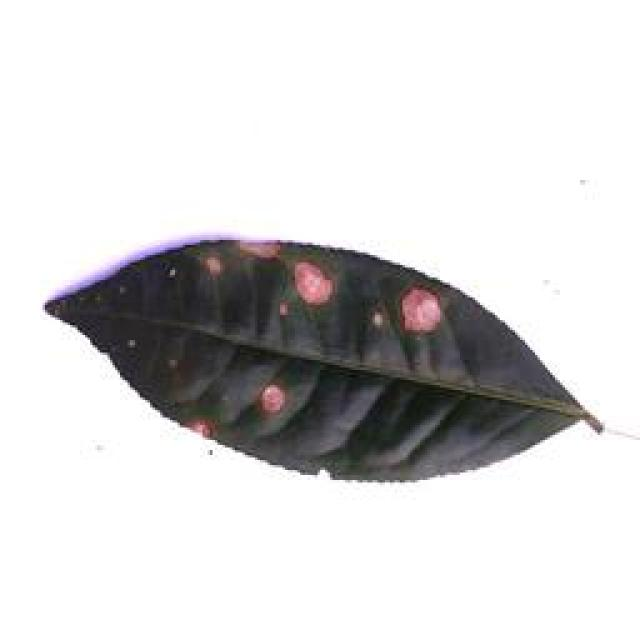Gray Blight: (41, 234, 612, 487)
